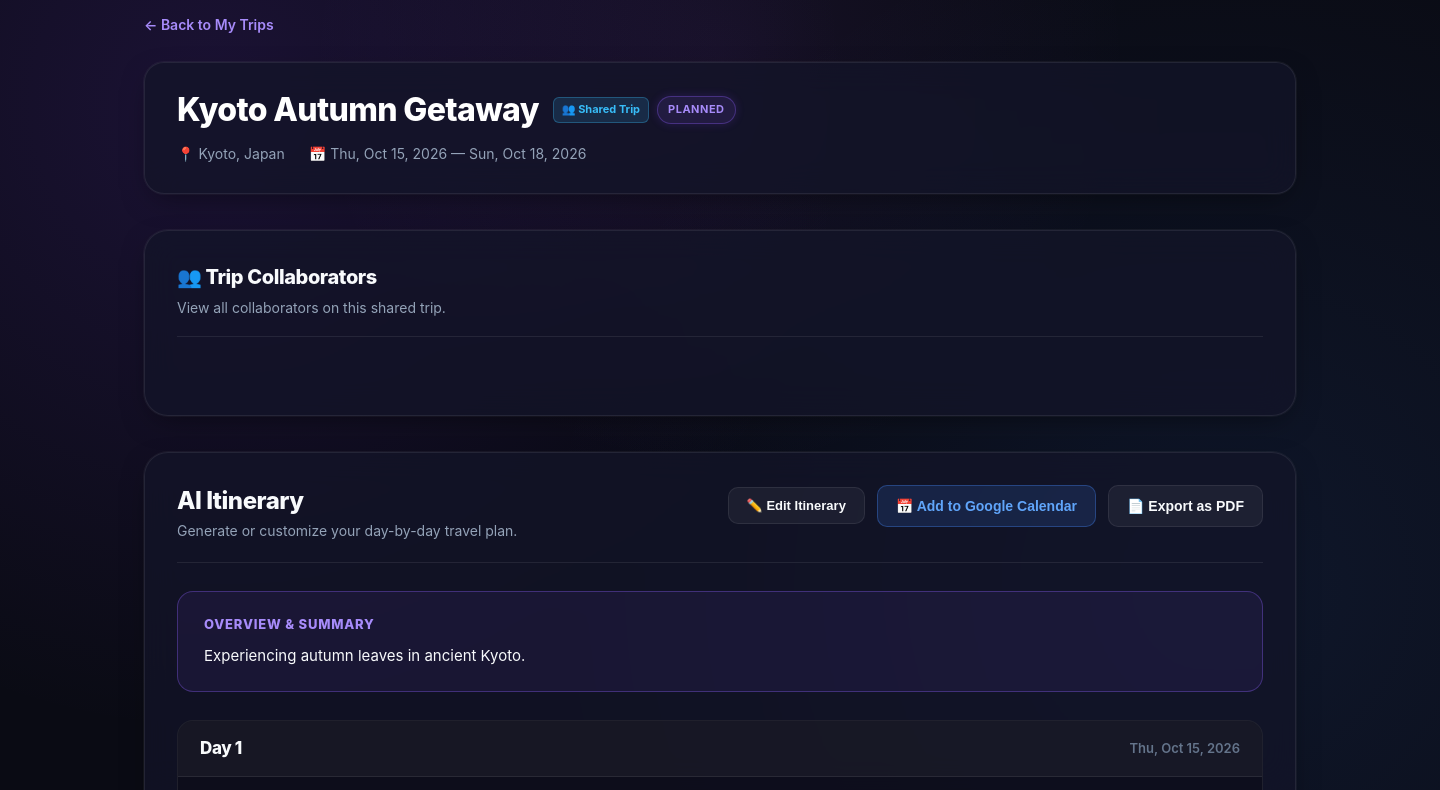
it: TripDetailsPage User-Editable Itinerary › allows editing summary, title, description, time, location and saves successfully
The image size is (1440, 790).
Click the button with test id "edit-itinerary-btn": (796, 506) [728, 487, 865, 524]
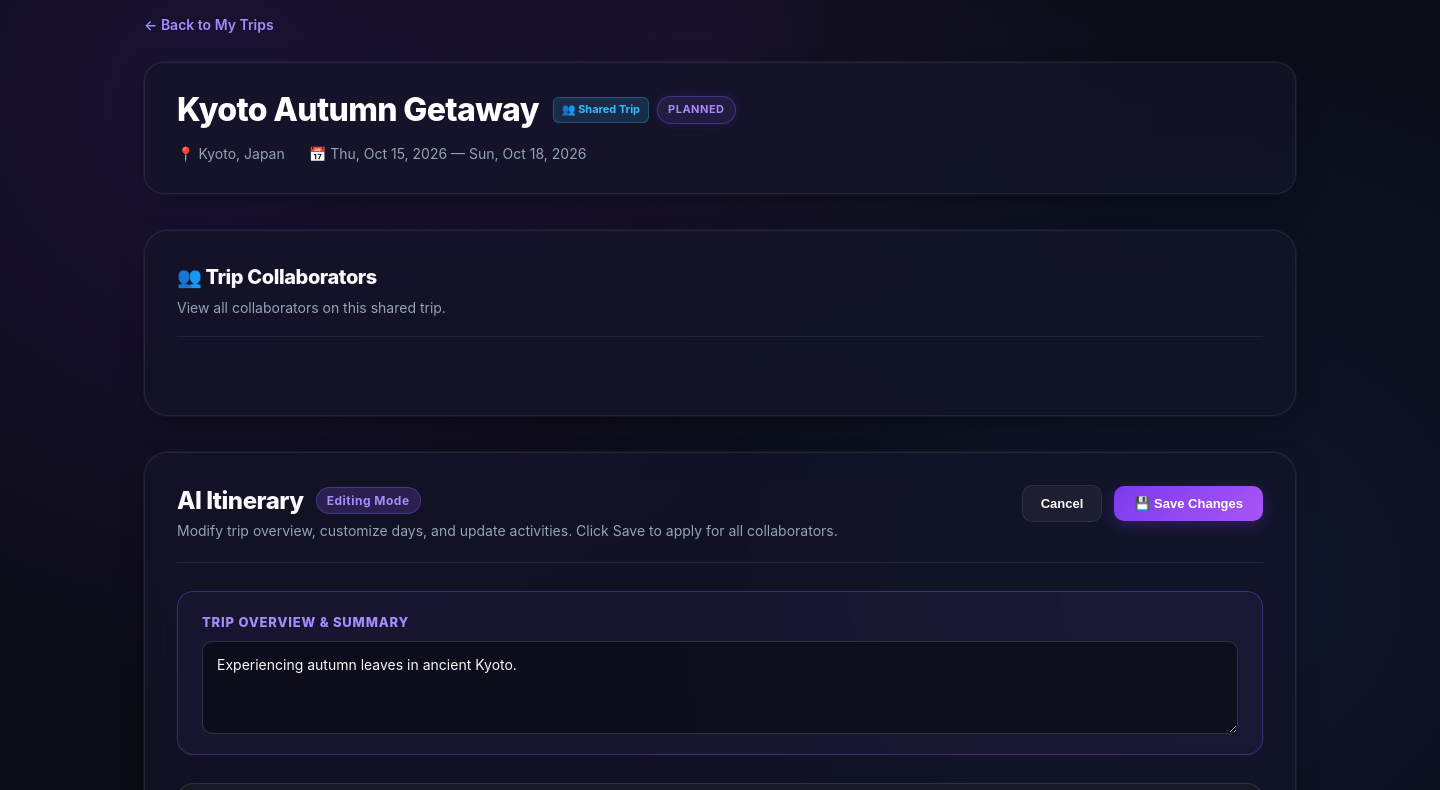
Note: Edit summary
Replace the text in the text box with test id "edit-trip-summary" with "Updated Autumn in Kyoto Summary": (720, 688) [202, 641, 1238, 734]
(page scrolled)
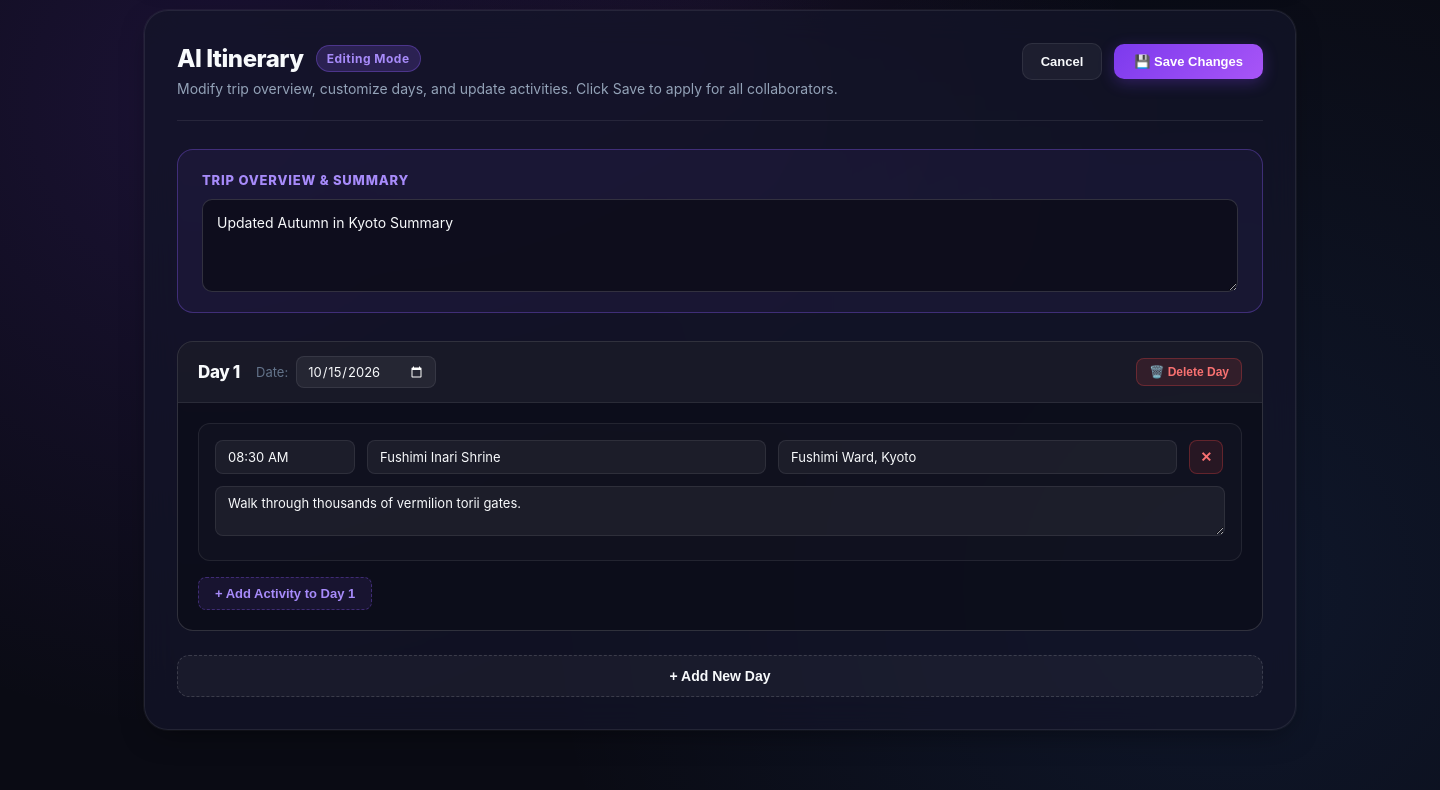
Note: Edit activity fields
Replace the text in the field with test id "edit-act-title-0-0" with "Early Morning Torii Walk": (566, 457) [367, 440, 766, 474]
Replace the text in the text box with test id "edit-act-desc-0-0" with "Hike up the mountain peak.": (720, 511) [215, 486, 1225, 536]
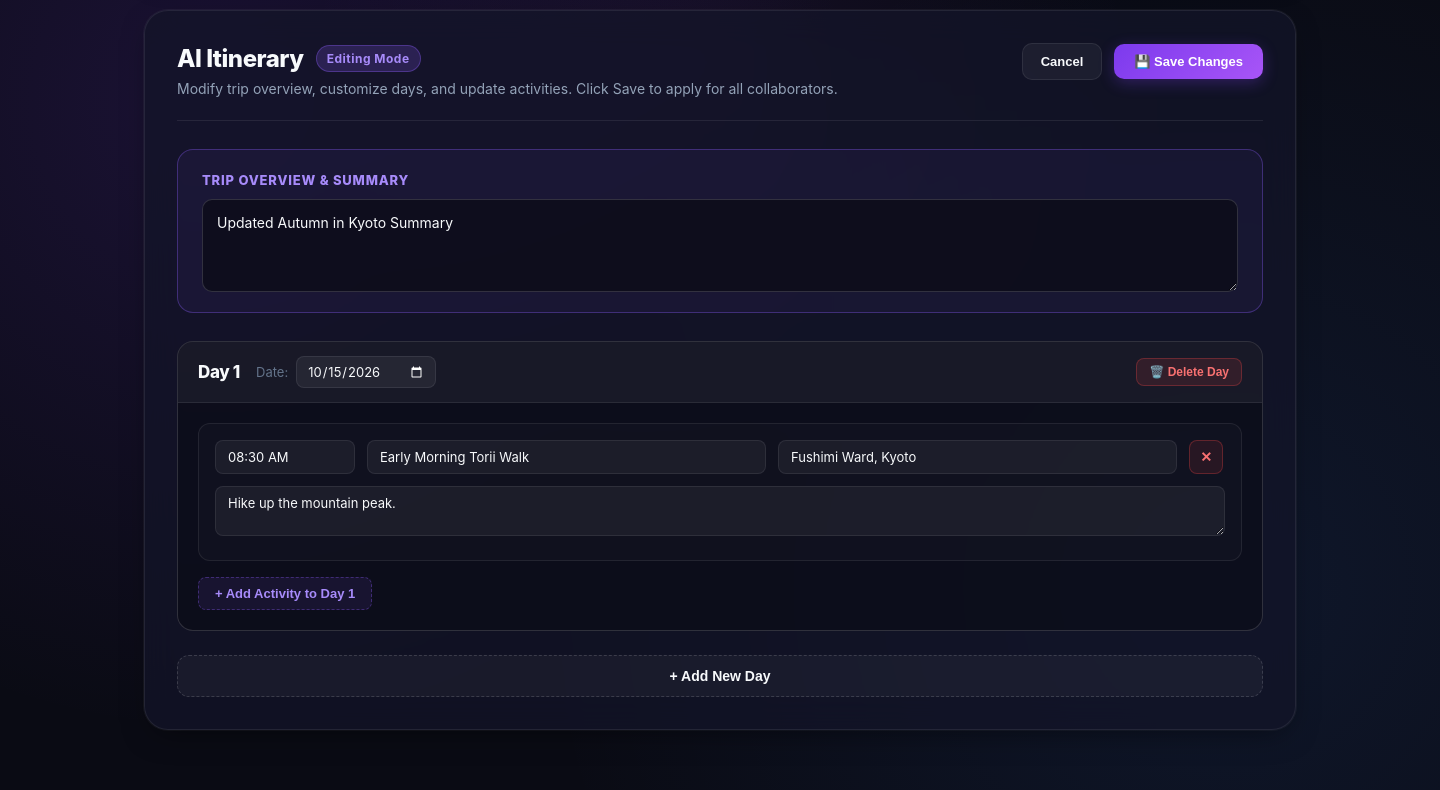
Replace the text in the field with test id "edit-act-time-0-0" with "07:00 AM": (285, 457) [215, 440, 355, 474]
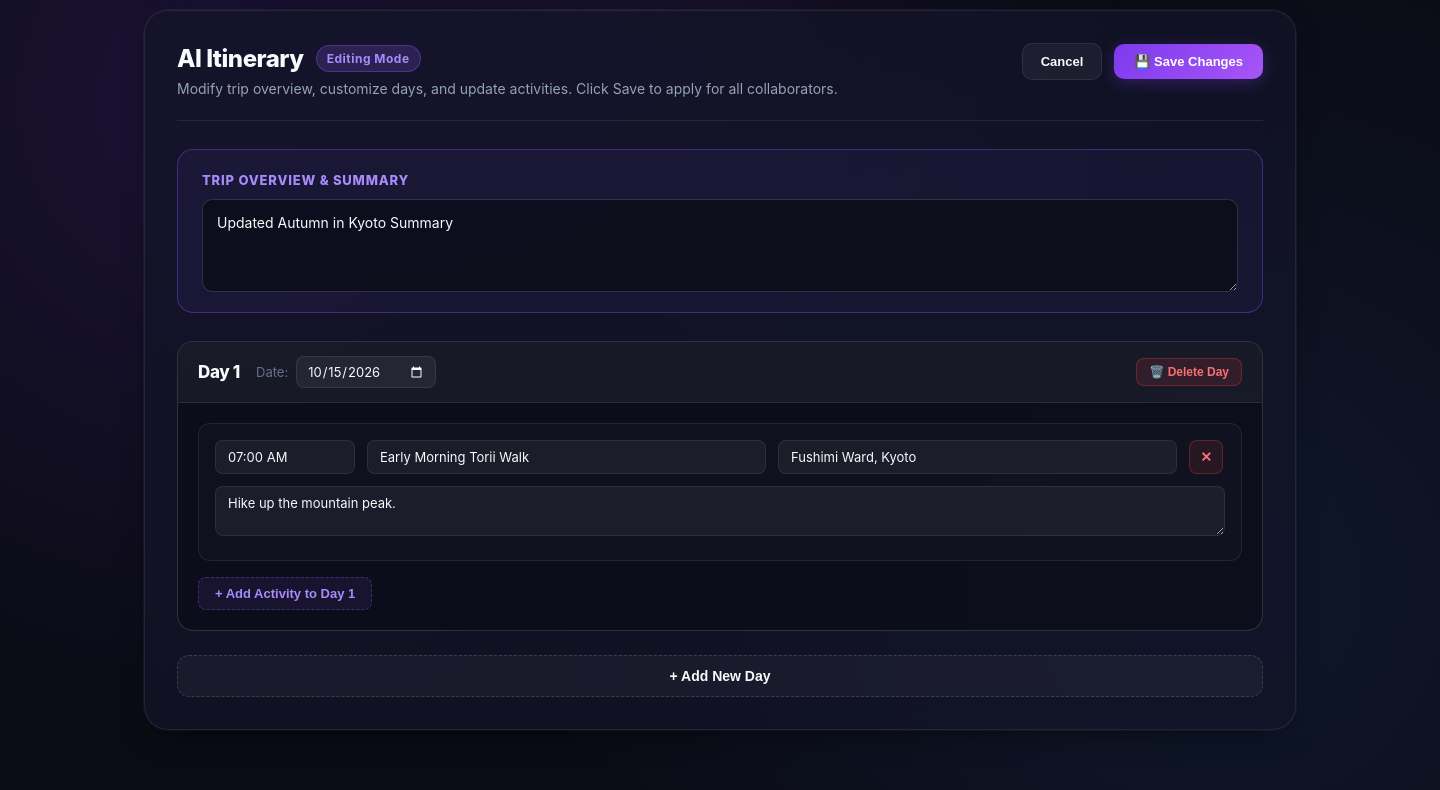
Replace the text in the field with test id "edit-act-location-0-0" with "Mount Inari": (978, 457) [778, 440, 1177, 474]
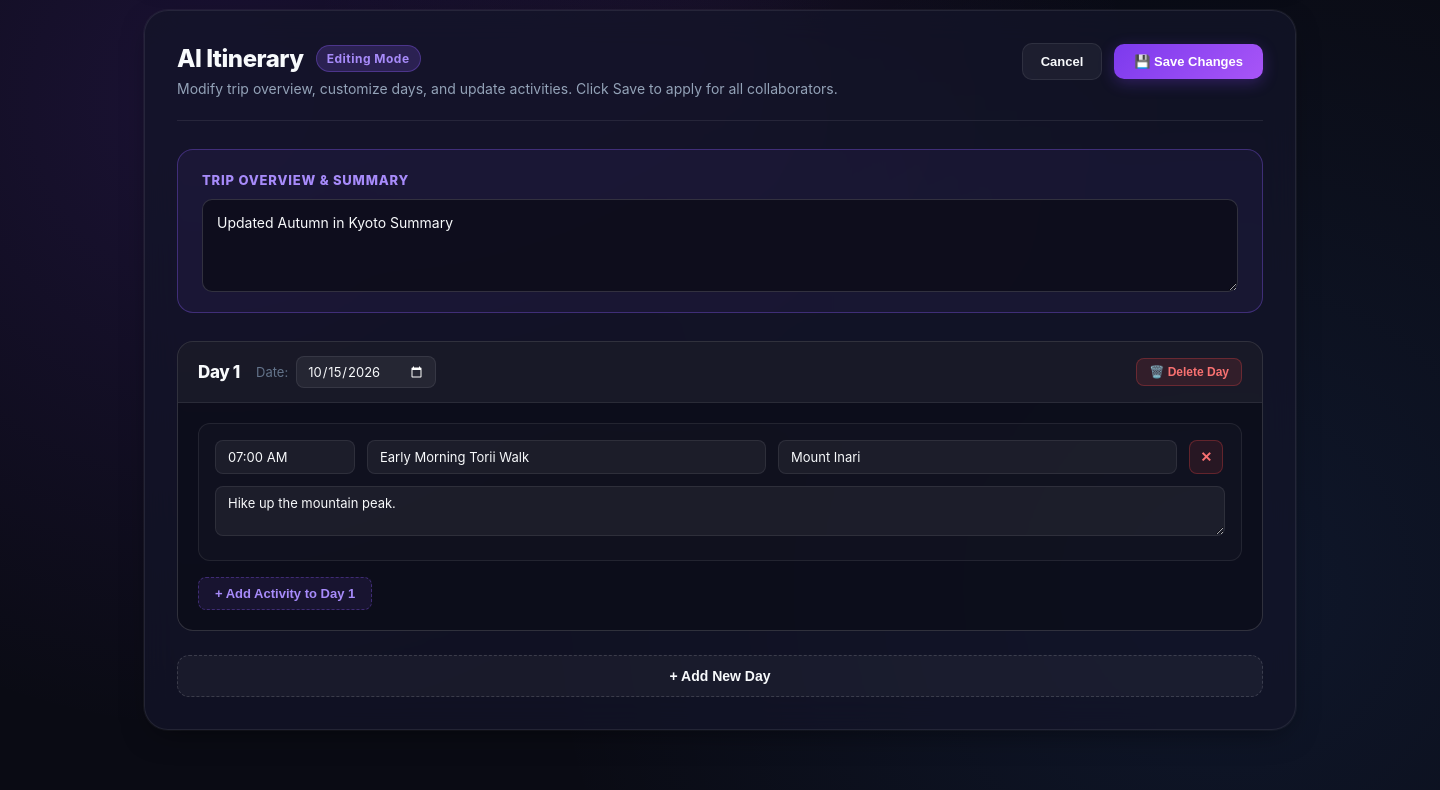
Click the button with test id "save-itinerary-btn": (1189, 61) [1114, 44, 1263, 79]
(page scrolled)
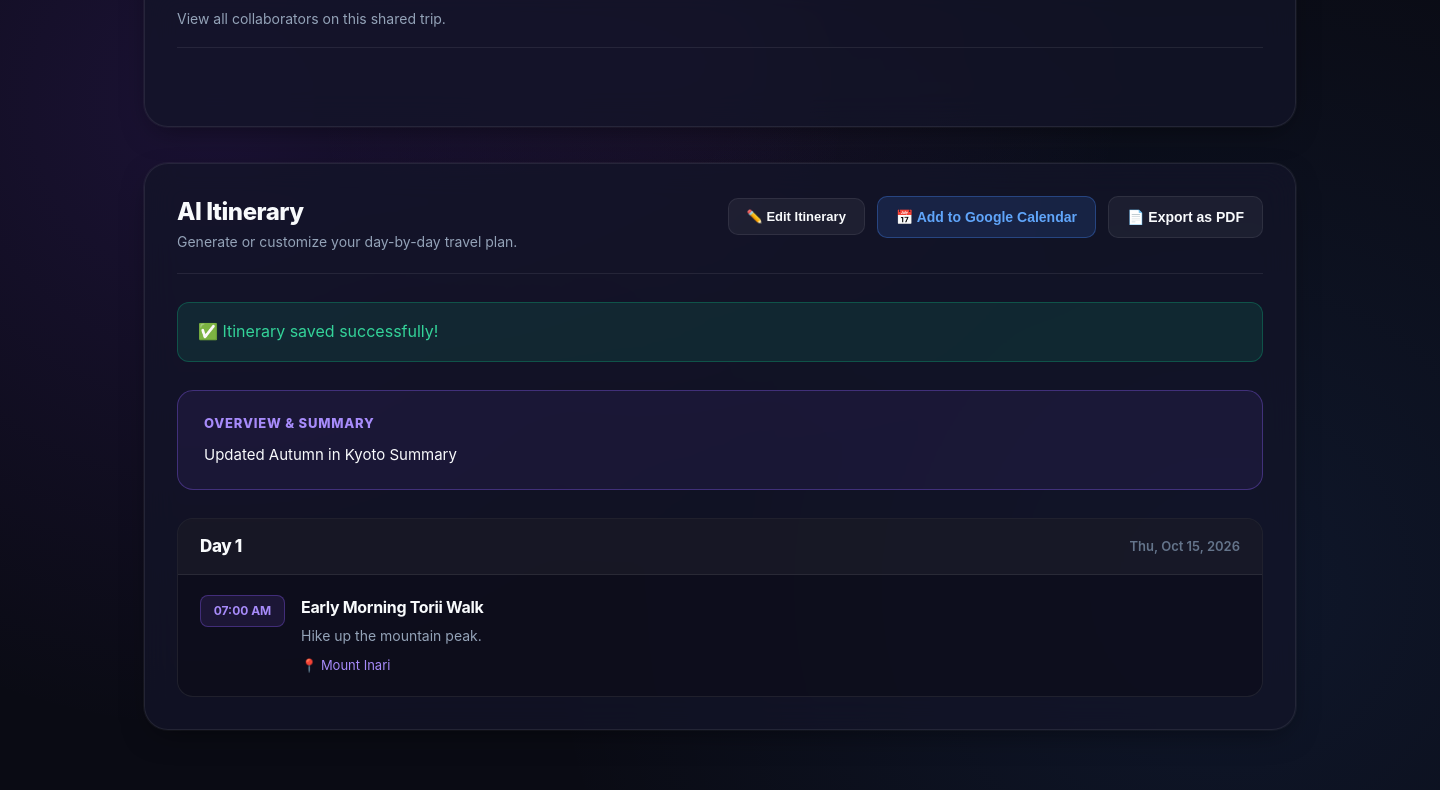
Expected: the message with test id "itinerary-save-success" shows "Itinerary saved successfully!", [222, 321, 438, 341]
Expected: the text with test id "edit-mode-badge" is gone
